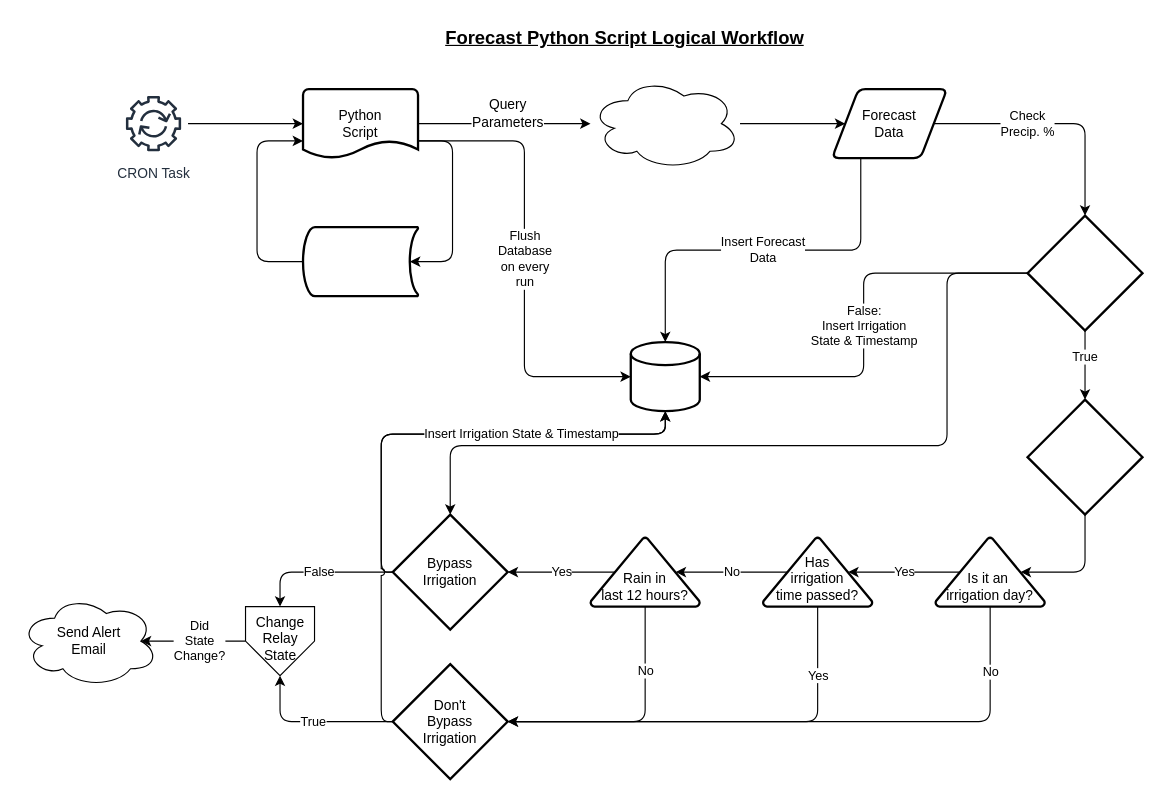
The diagram is 1164 pixels wide and 799 high, and some of its shapes have lost their labels. The shapes that lost their labels are listed below. From the top down, each one's centre as x and y in pixels, then its label:
At [664,123]: "OpenWeathermap API".
At [360,261]: "Environment Variables".
At [1084,272]: "Turn Irrigation On?".
At [664,376]: "Database".
At [1084,456]: "Evaluate Override Logic".
